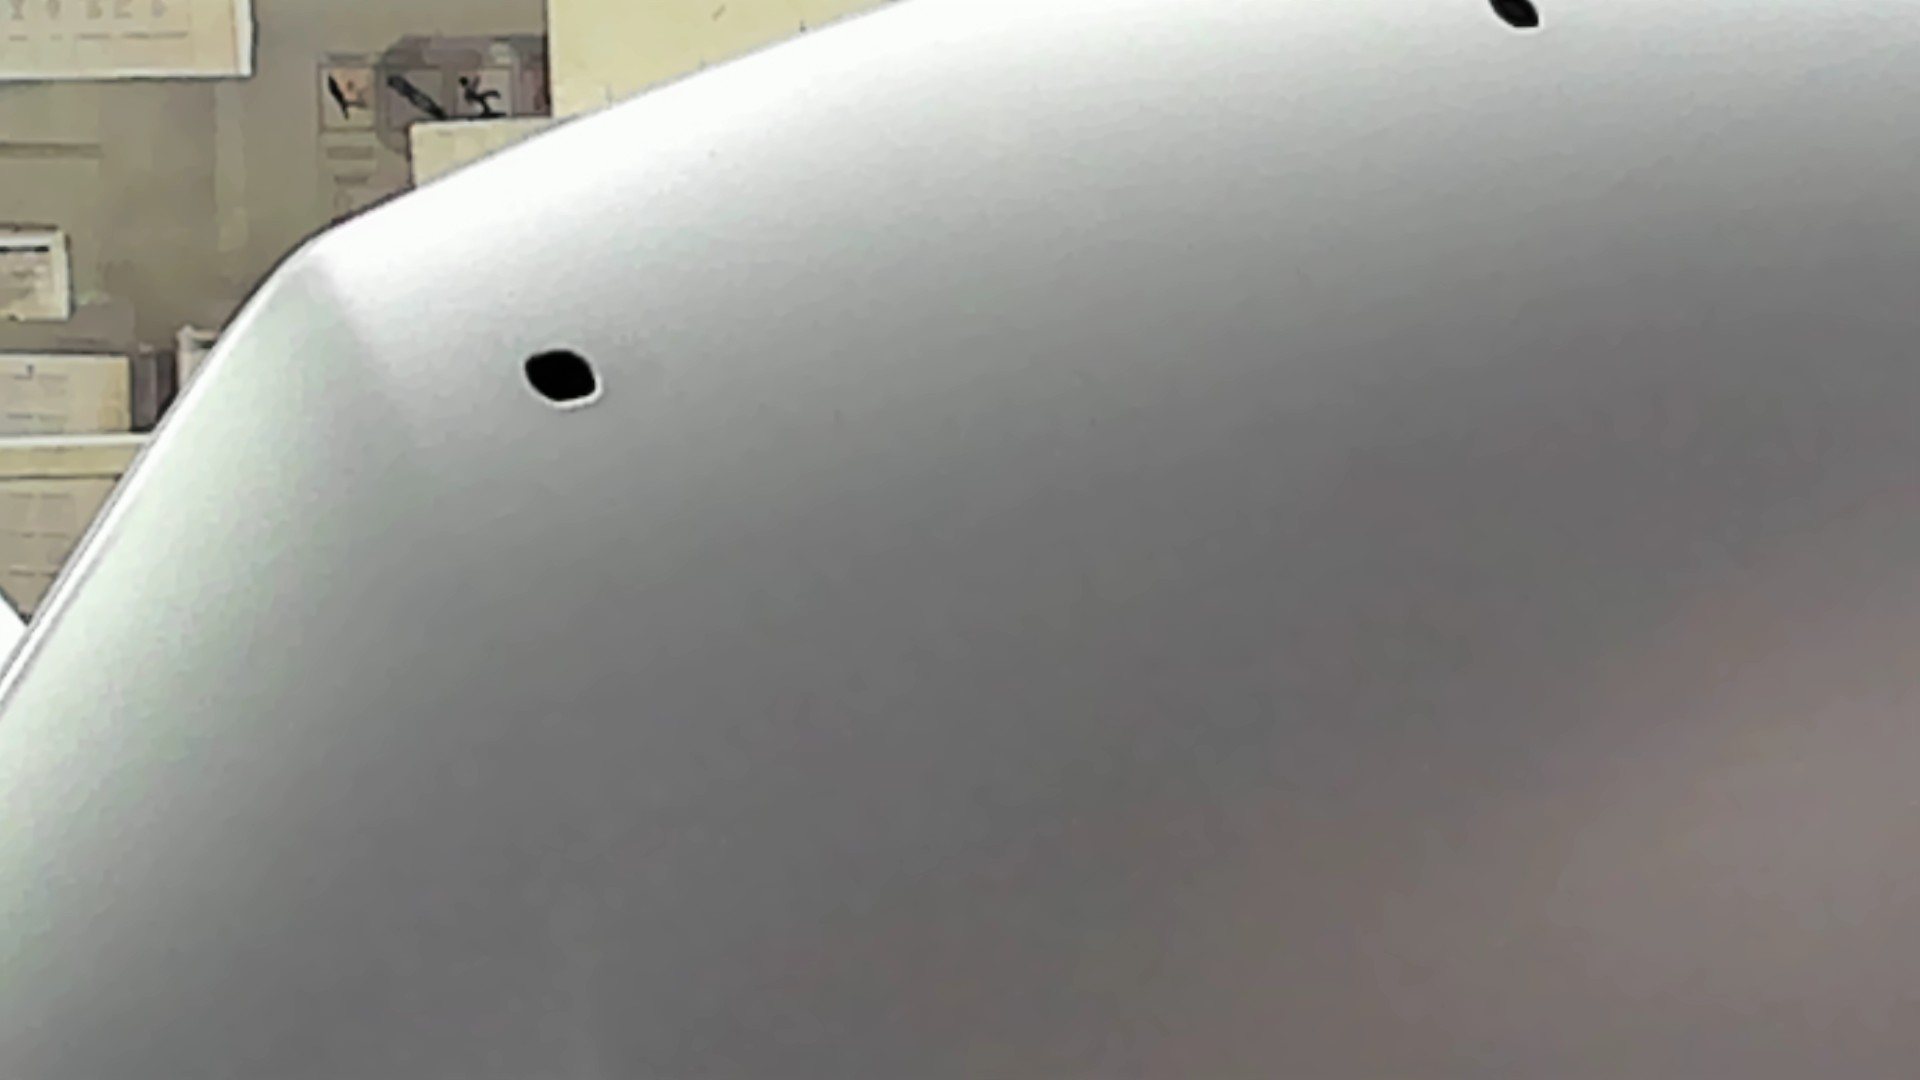amorfo: (516, 343, 612, 410), (1480, 1, 1547, 36)
capo: (688, 111, 1920, 1080)
